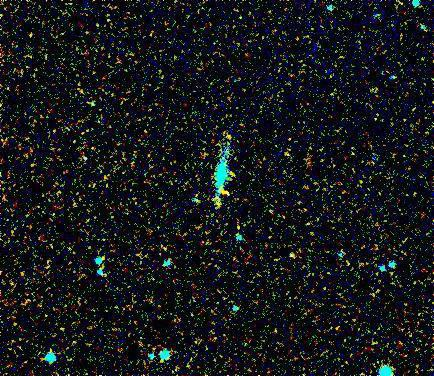star: (218, 178, 248, 208)
